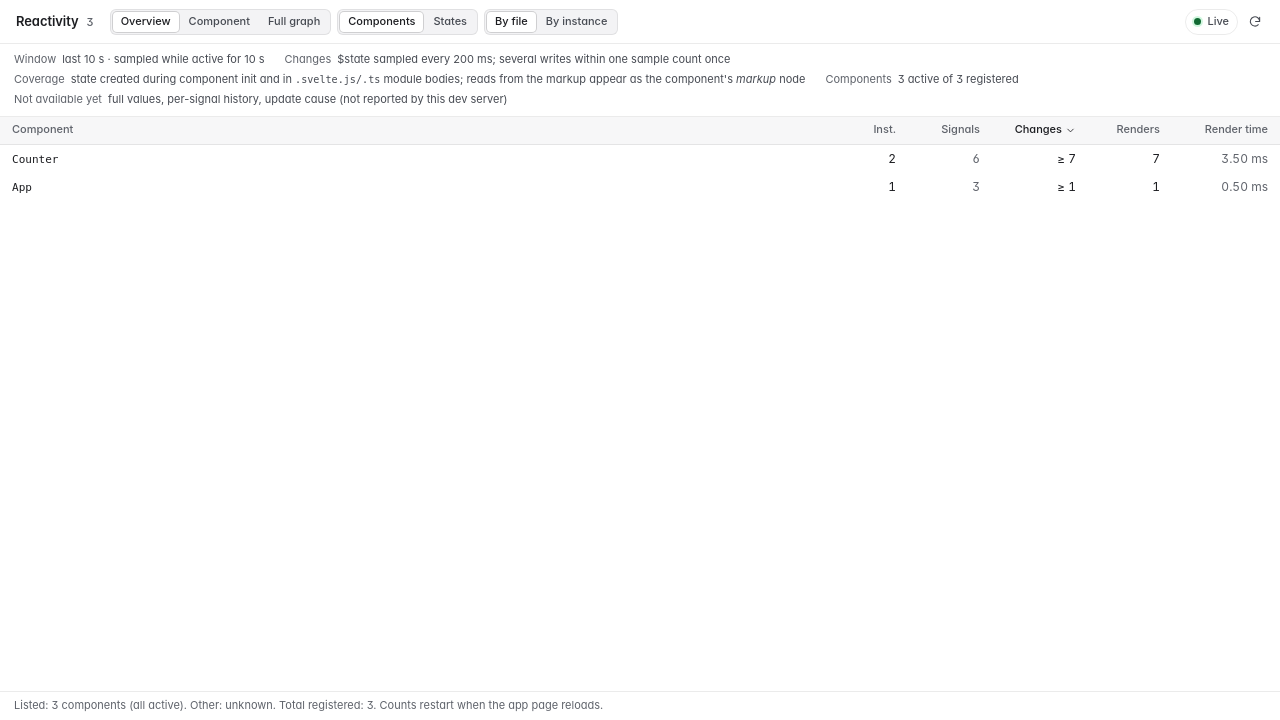
Test: ReactiveGraph: states overview › lists the most changed states of the timeline buffer
Click the radio button labelled "States". click: point(450, 22)
box: [426, 12, 475, 32]
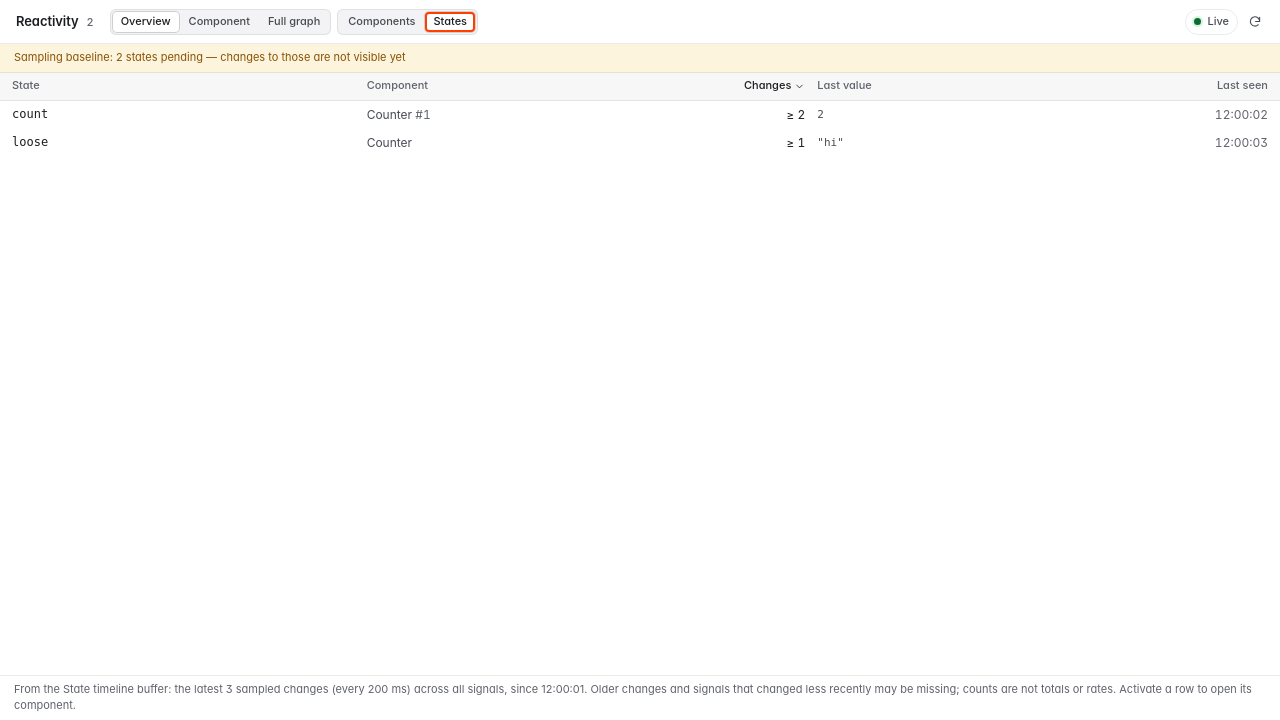
Check: the heading shows "2", box [87, 15, 94, 29]
Check: the option "count Counter #1 ≥ 2 2 12:00:02" is shown, box [12, 107, 1268, 122]
Check: the message shows "2 states pending", box [14, 50, 406, 64]
